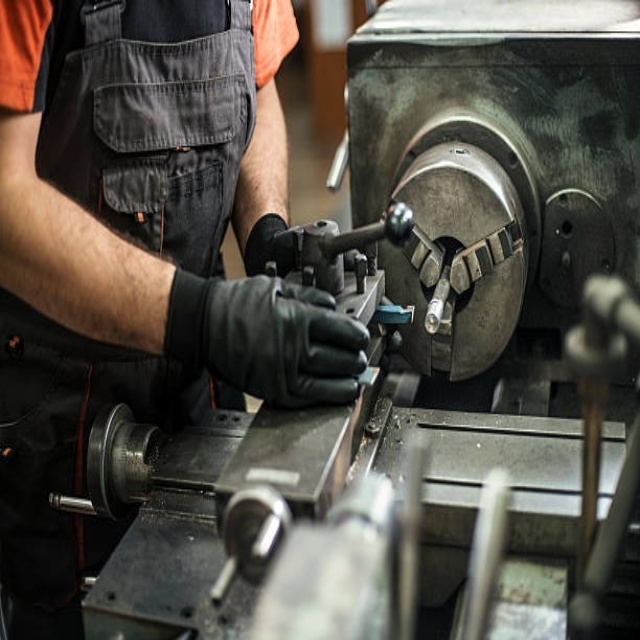Guantes: (158, 259, 371, 413)
